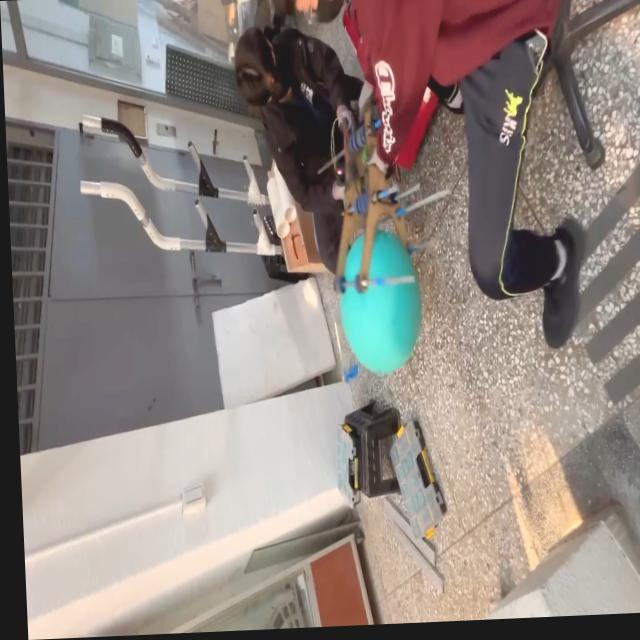ALGAE: (335, 225, 426, 379)
